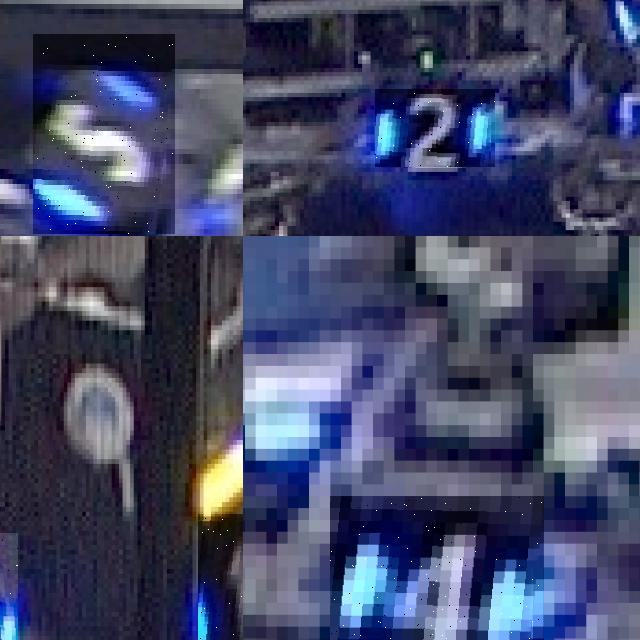B1: (197, 514, 243, 640)
B2: (375, 89, 495, 167)
B4: (330, 496, 543, 640)
B5: (33, 34, 175, 234)
